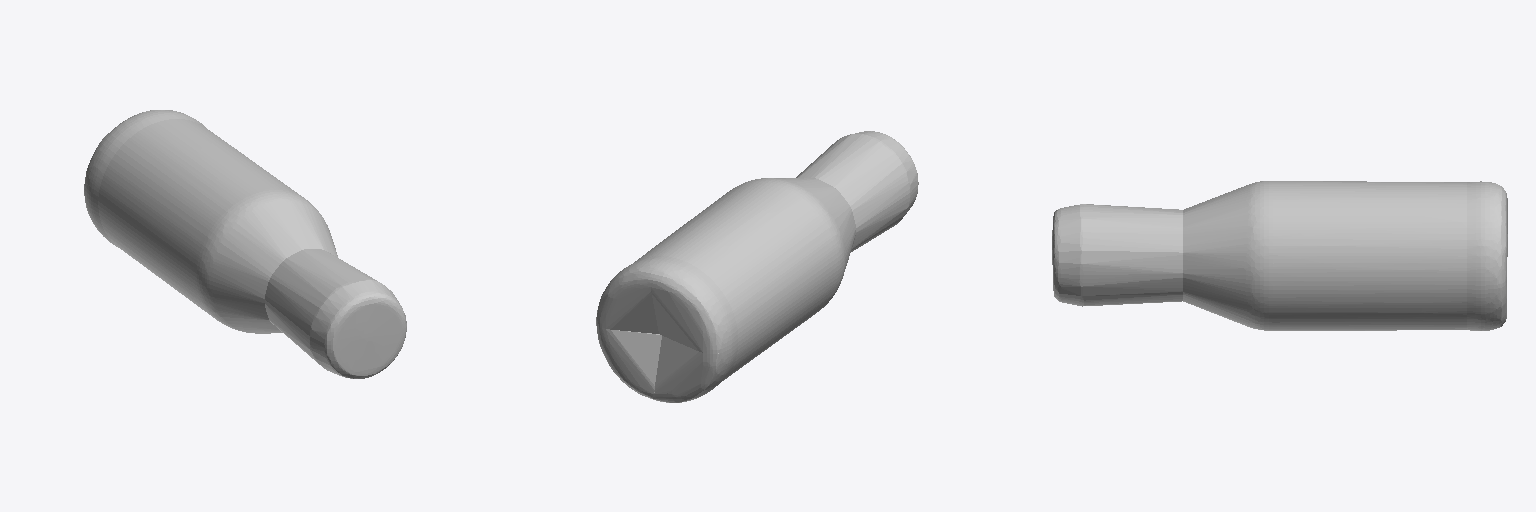
Rendered from coacd_collision.obj.
The picture shows the model from 3 angles: view 1: azimuth 30°, elevation 25°; view 2: azimuth 150°, elevation 25°; view 3: azimuth 270°, elevation 25°; orthographic projection.
Parts seen in each view (by area): view 1: geometry_1, geometry_0, geometry_5; view 2: geometry_1, geometry_0, geometry_5, geometry_2, geometry_4, geometry_3; view 3: geometry_1, geometry_0, geometry_4, geometry_3.
Boxes of the visible parts, x1=… form: geometry_1: x1=98, y1=119, x2=337, y2=333; geometry_0: x1=264, y1=249, x2=406, y2=378; geometry_5: x1=84, y1=111, x2=164, y2=203; geometry_1: x1=635, y1=178, x2=855, y2=380; geometry_0: x1=796, y1=131, x2=918, y2=251; geometry_5: x1=651, y1=257, x2=737, y2=353; geometry_2: x1=655, y1=336, x2=737, y2=402; geometry_4: x1=596, y1=256, x2=669, y2=333; geometry_3: x1=596, y1=324, x2=661, y2=400; geometry_1: x1=1183, y1=181, x2=1466, y2=330; geometry_0: x1=1052, y1=204, x2=1182, y2=306; geometry_4: x1=1467, y1=190, x2=1506, y2=288; geometry_3: x1=1467, y1=283, x2=1506, y2=330.
Bounding box in the file's own units: 69.71 × 69.86 × 211.